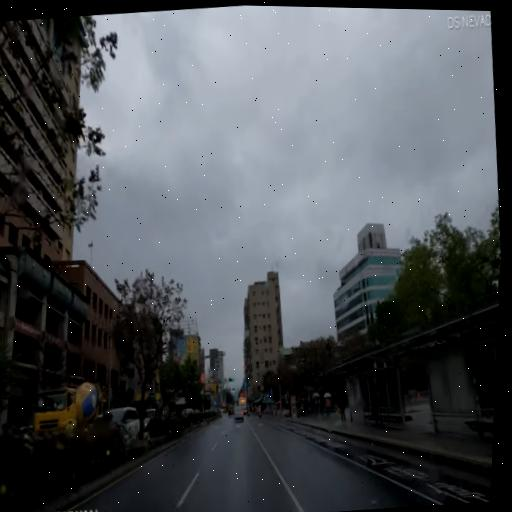Car: (25, 373, 116, 469), (89, 399, 146, 459), (138, 402, 161, 433), (234, 391, 252, 415), (232, 403, 245, 426)
